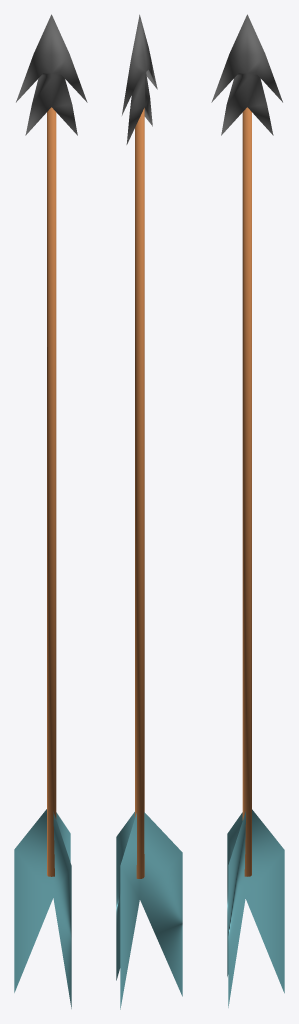
Rendered from NormalArrow.fbx.
3 renders of one model, left to right at view 1: azimuth 90°, elevation 25°; view 2: azimuth 150°, elevation 25°; view 3: azimuth 270°, elevation 25°, orthographic.
Visible parts, largest first — view 1: Cube; view 2: Cube; view 3: Cube.
Part boxes in pixels (x1,y1,x2,y2): Cube: [14, 14, 87, 1008]; Cube: [116, 14, 182, 1009]; Cube: [211, 14, 284, 1007].
Size of the model in its own units: 195 by 2789 by 189.
